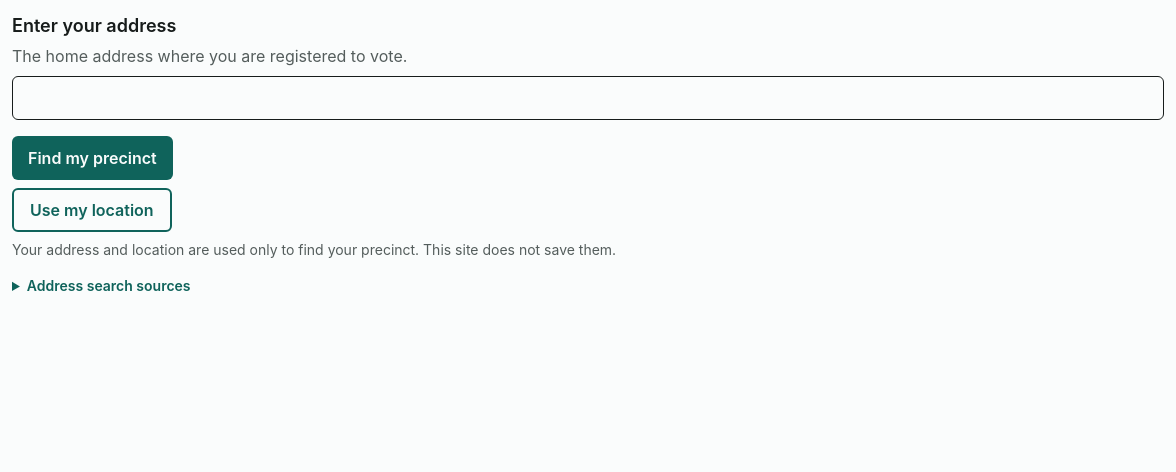
Test: AddressLookup › clears an earlier notice when a new search starts
This screenshot has width=1176, height=472.
In the dropdown labelled "Enter your address": (588,98) [12,76,1164,120], type "7700 Fine Rd, Saint Louis, MO 63129"
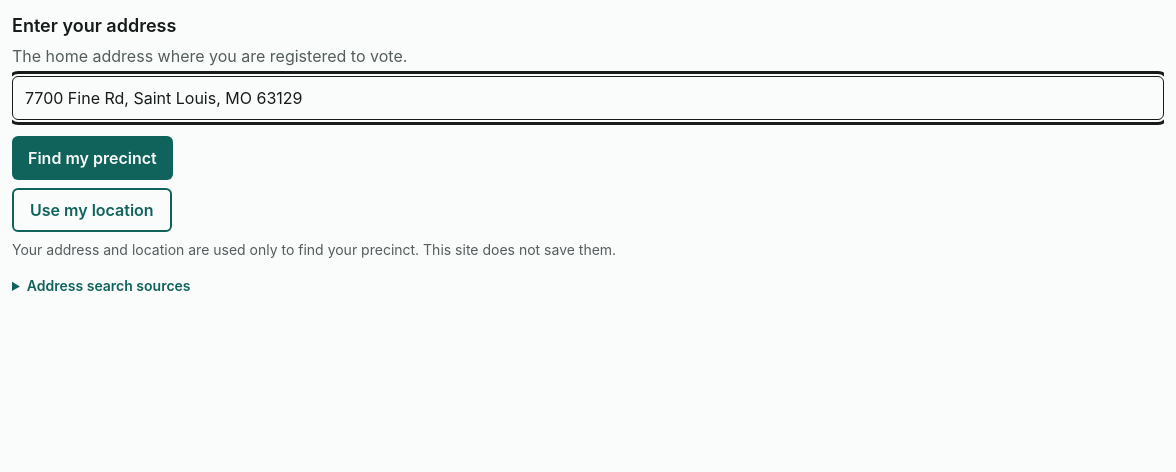
Click the button "Find my precinct": (92,158) [12,136,173,180]
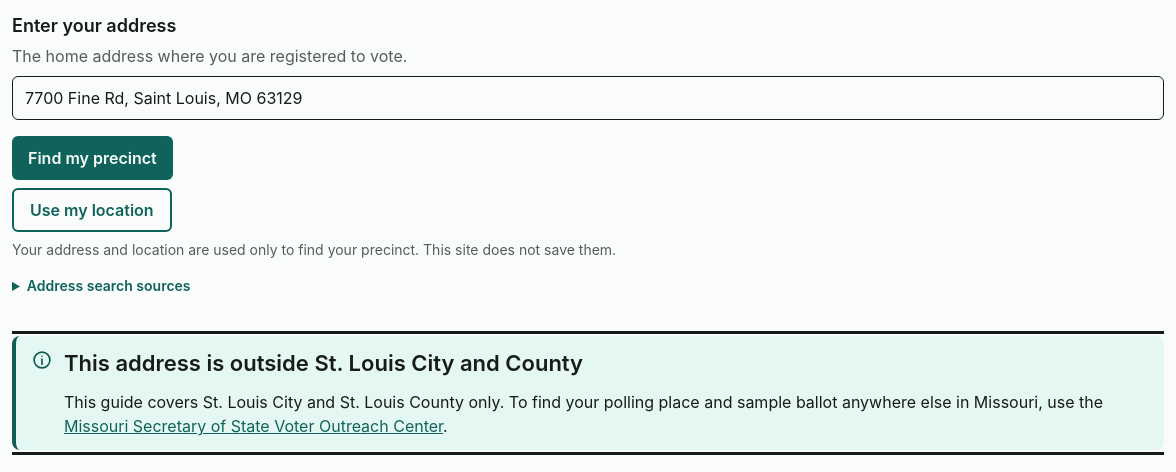
Expected: the heading "This address is outside St. Louis City and County" is shown, [64,350,583,376]
Click the button "Find my precinct": (92,158) [12,136,173,180]
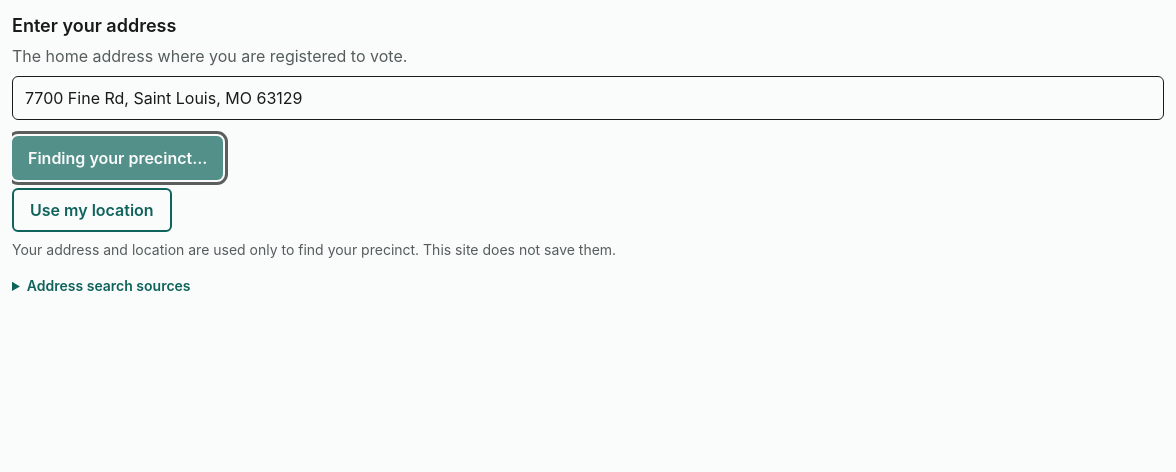
Expected: the heading "This address is outside St. Louis City and County" is gone
